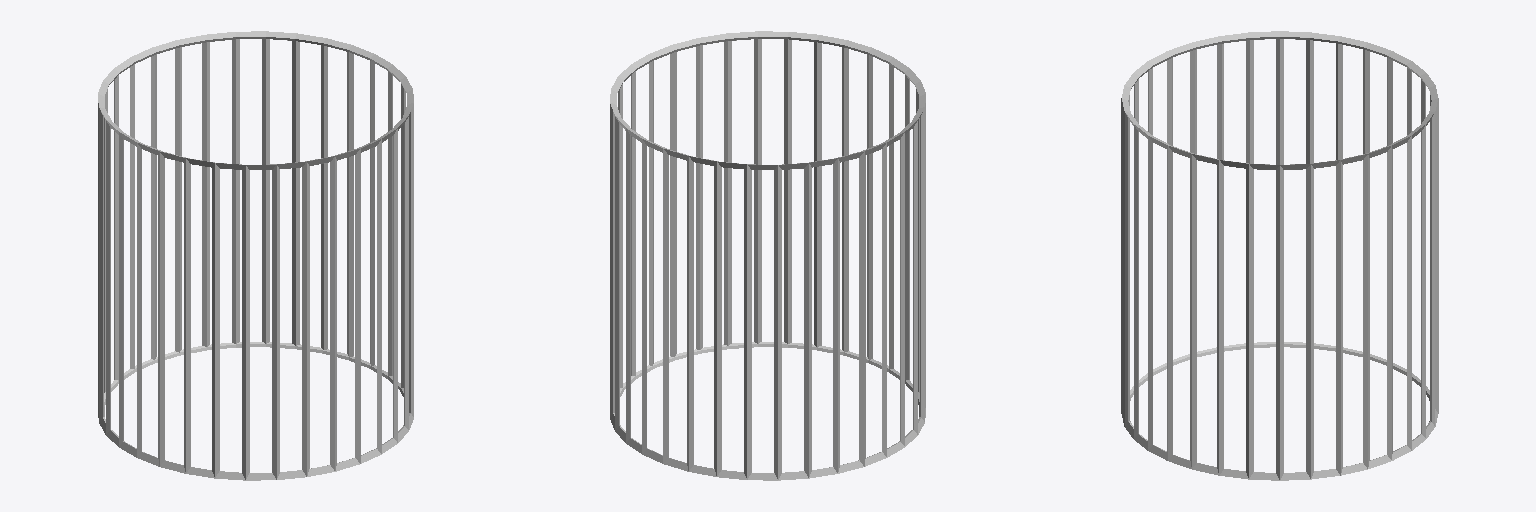
File: Cup.obj
3 views of the same model, side by side, from view 1: azimuth 30°, elevation 25°; view 2: azimuth 150°, elevation 25°; view 3: azimuth 270°, elevation 25° (orthographic).
Parts seen in each view (by area): view 1: Cup; view 2: Cup; view 3: Cup.
Boxes of the visible parts, x1=… form: Cup: x1=98, y1=31, x2=413, y2=480; Cup: x1=610, y1=31, x2=925, y2=480; Cup: x1=1121, y1=31, x2=1438, y2=480.
Size of the model in its own units: 1.51 by 1.66 by 1.51.